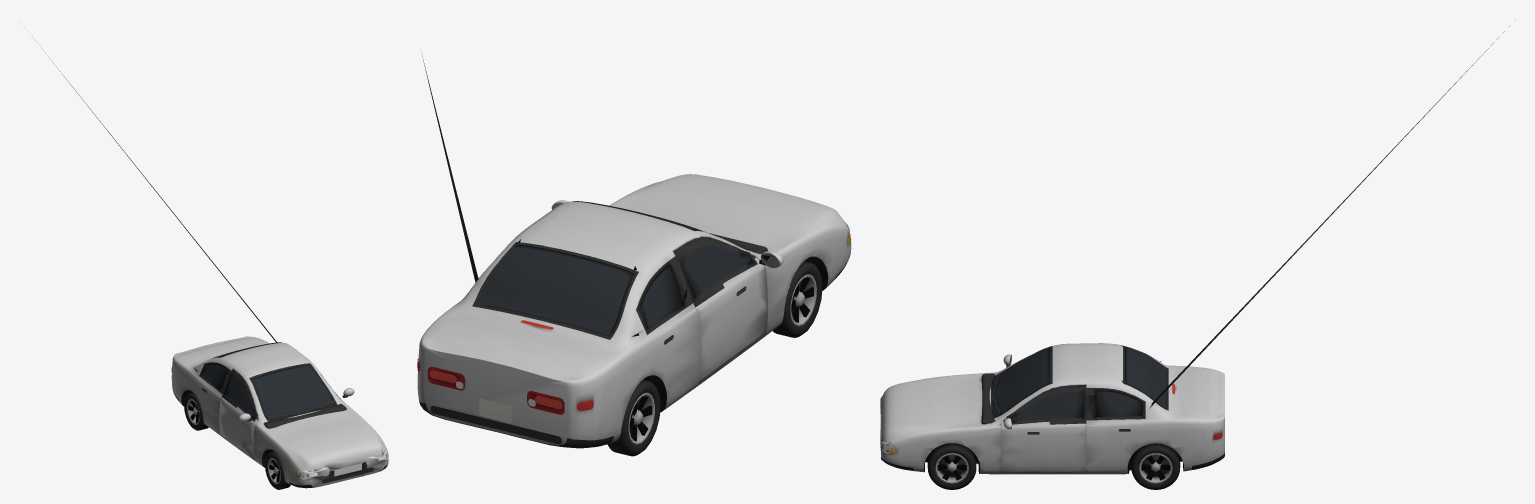
Rendered from car-compact-v2.glb.
The picture shows the model from 3 angles, left to right: view 1: azimuth 30°, elevation 25°; view 2: azimuth 150°, elevation 25°; view 3: azimuth 270°, elevation 25°; orthographic projection. The views are drawn at different scales.
Visible parts, largest first — view 1: body, door_R, wheel_FR, wheel_RR; view 2: body, door_R, wheel_RR, wheel_FR; view 3: body, door_L, wheel_FL, wheel_RL.
Part boxes in pixels (<box>): body: <box>32,36,388,488</box>; door_R: <box>219,369,258,458</box>; wheel_FR: <box>265,451,290,489</box>; wheel_RR: <box>184,392,208,430</box>; body: <box>417,55,851,448</box>; door_R: <box>673,237,783,383</box>; wheel_RR: <box>607,379,660,456</box>; wheel_FR: <box>773,261,822,337</box>; body: <box>880,26,1509,474</box>; door_L: <box>1001,384,1086,472</box>; wheel_FL: <box>927,443,976,489</box>; wheel_RL: <box>1131,443,1180,489</box>.
Bounding box in the file's own units: 2.56 × 5.7 × 8.27.
